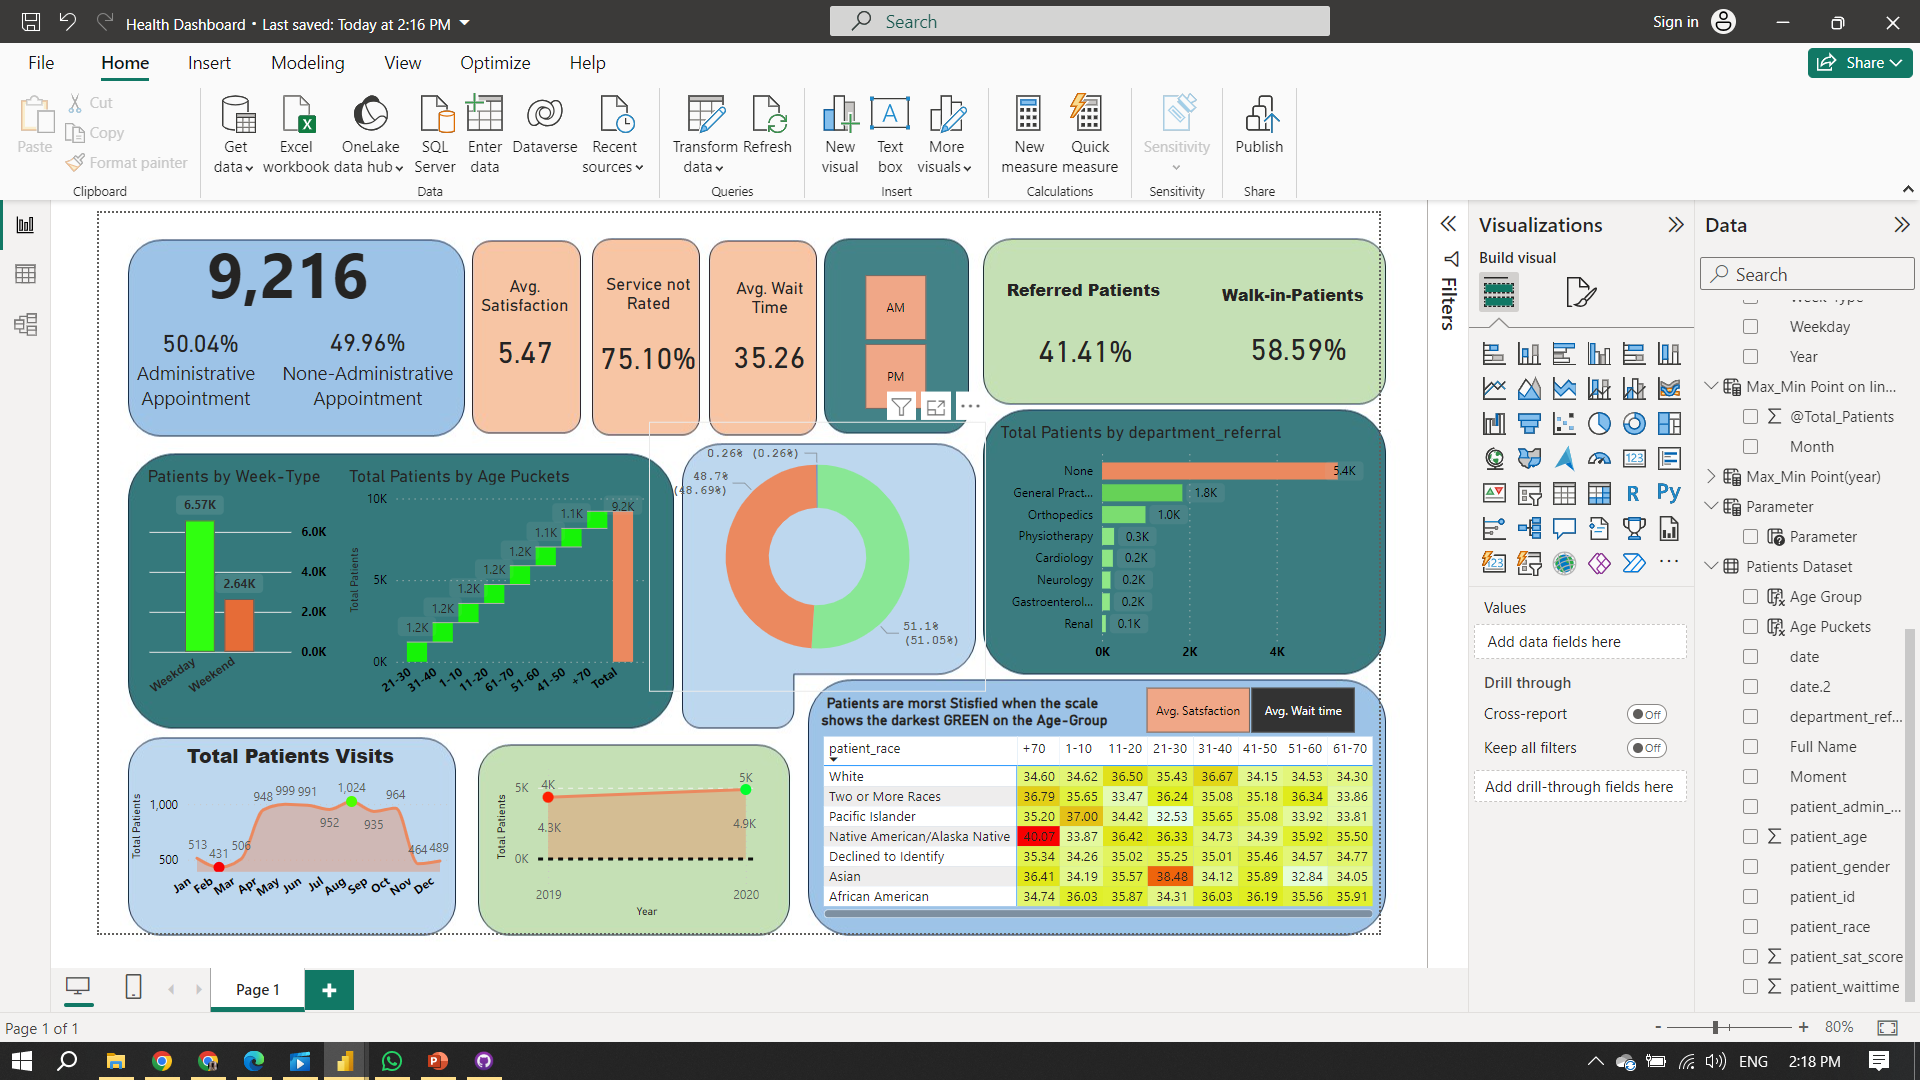

The page's visual inventory and layout, read from the dashboard file:
{"tool":"powerbi","page":{"name":"Page 1","canvas":[1280,720],"ordinal":0},"visuals":[{"type":"card","fields":{"Values":["Calculations.Total Patients"]},"box":[22.5,2.5,332.5,111.2],"z":0},{"type":"card","fields":{"Values":["Calculations.% Adminstraive Schedule"]},"box":[33.8,88.8,135,82.5],"z":1000},{"type":"card","fields":{"Values":["Calculations.% Non_Adminstraive Schedule"]},"box":[201.2,87.5,135,82.5],"z":2000},{"type":"card","title":"Avg. Satisfaction","fields":{"Values":["Calculations.Average Satsfaction"]},"box":[370,62.5,111.2,111.2],"z":3000},{"type":"card","title":"Service not Rated","fields":{"Values":["Calculations.%No Rating"]},"box":[492.5,61.2,113.8,126.2],"z":4000},{"type":"card","title":"Avg. Wait Time","fields":{"Values":["Calculations.Avverage Wait time"]},"box":[621.2,65,98.8,116.2],"z":5000},{"type":"pivotTable","fields":{"Values":["Calculations.Average Wait time"],"Columns":["Patients Dataset.Age Puckets"],"Rows":["Patients Dataset.patient_race"]},"box":[720,518.8,558.8,191.2],"z":6000},{"type":"slicer","fields":{"Values":["Parameter.Parameter"]},"box":[1021.2,467.5,258.8,58.8],"z":7000},{"type":"waterfallChart","fields":{"Category":["Patients Dataset.Age Puckets"],"Y":["Calculations.Total Patients"]},"box":[245,252.5,305,247.5],"z":8000},{"type":"areaChart","title":"Total Patients Visits","fields":{"Category":["Date.Month"],"Y":["Calculations.Total Patients"]},"box":[27.5,528.8,327.5,176.2],"z":9000},{"type":"stackedAreaChart","title":"Total Patients Visits","fields":{"Category":["Date.Year "],"Y":["Calculations.Total Patients"]},"box":[392.5,543.8,272.5,166.2],"z":10000},{"type":"card","fields":{"Values":["Calculations.% referred Pationts"]},"box":[931.2,100,111.2,73.8],"z":11000},{"type":"card","fields":{"Values":["Calculations.% UN referred Pationts"]},"box":[1137.5,100,123.8,68.8],"z":12000},{"type":"clusteredBarChart","fields":{"Y":["Calculations.Total Patients"],"Category":["Patients Dataset.department_referral"]},"box":[896.2,208.8,377.5,248.8],"z":13000},{"type":"card","fields":{"Values":["Calculations.HitMap Caption"]},"box":[710,470,311.2,58.8],"z":14000},{"type":"slicer","fields":{"Values":["Patients Dataset.Moment"]},"box":[740,55,111.2,147.5],"z":15000},{"type":"textbox","box":[21.2,142.5,151.2,66.2],"z":16000},{"type":"textbox","box":[161.2,142.5,215,60],"z":17000},{"type":"textbox","box":[1113.8,47.5,160,73.8],"z":18000},{"type":"textbox","box":[901.2,42.5,166.2,73.8],"z":19000},{"type":"clusteredColumnChart","title":"Patients by Week-Type","fields":{"Y":["Calculations.Total Patients"],"Category":["Date.Week-Type"]},"box":[43.8,252.5,188.8,247.5],"z":20000},{"type":"donutChart","fields":{"Y":["Calculations.% Male visit","Calculations.% FeMale visit","Calculations.% Unkown visit"]},"box":[550,208.8,337.5,270],"z":21000}]}

Visuals, with their boxes on the page's 1280x720 design canvas (x1, y1, x2, y2). These are canvas units, not pixel positions in the 1920x1080 screenshot, which may show the page scaled, cropped or inside an application window:
card - Calculations.Total Patients: (22, 2, 355, 114)
card - Calculations.% Adminstraive Schedule: (34, 89, 169, 171)
card - Calculations.% Non_Adminstraive Schedule: (201, 88, 336, 170)
"Avg. Satisfaction" card: (370, 62, 481, 174)
"Service not Rated" card: (492, 61, 606, 187)
"Avg. Wait Time" card: (621, 65, 720, 181)
pivotTable - Calculations.Average Wait time x Patients Dataset.Age Puckets: (720, 519, 1279, 710)
slicer - Parameter.Parameter: (1021, 468, 1280, 526)
waterfallChart - Patients Dataset.Age Puckets x Calculations.Total Patients: (245, 252, 550, 500)
"Total Patients Visits" areaChart: (28, 529, 355, 705)
"Total Patients Visits" stackedAreaChart: (392, 544, 665, 710)
card - Calculations.% referred Pationts: (931, 100, 1042, 174)
card - Calculations.% UN referred Pationts: (1138, 100, 1261, 169)
clusteredBarChart - Calculations.Total Patients x Patients Dataset.department_referral: (896, 209, 1274, 458)
card - Calculations.HitMap Caption: (710, 470, 1021, 529)
slicer - Patients Dataset.Moment: (740, 55, 851, 202)
textbox: (21, 142, 172, 209)
textbox: (161, 142, 376, 202)
textbox: (1114, 48, 1274, 121)
textbox: (901, 42, 1067, 116)
"Patients by Week-Type" clusteredColumnChart: (44, 252, 233, 500)
donutChart - Calculations.% Male visit x Calculations.% FeMale visit: (550, 209, 888, 479)
